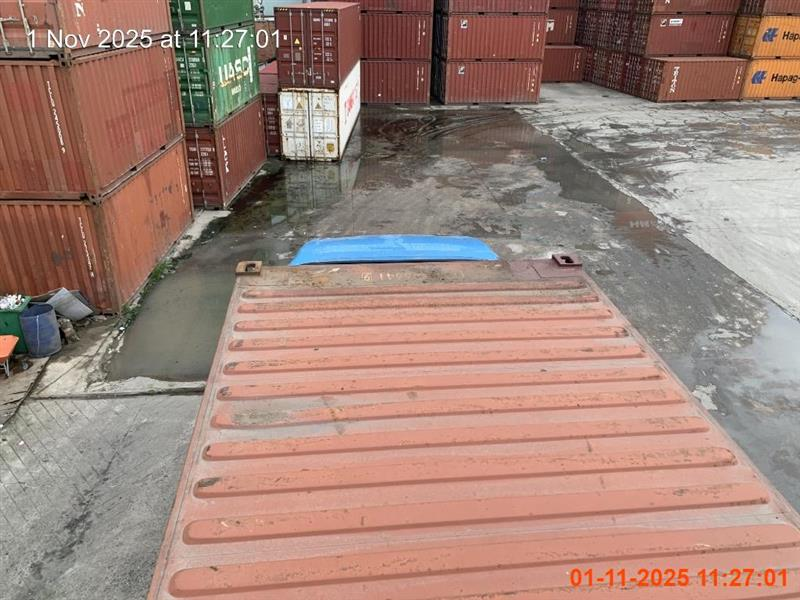broken: (149, 233, 798, 599)
